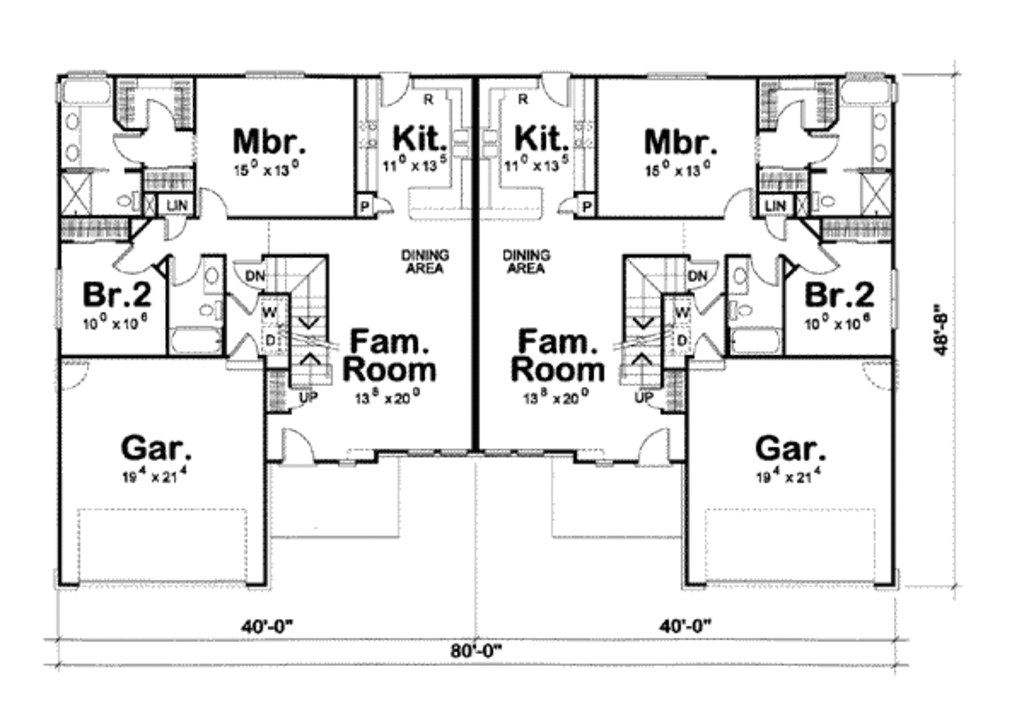door: (110, 239, 156, 284), (795, 240, 848, 279), (280, 423, 320, 471), (633, 427, 674, 471), (223, 328, 261, 373), (141, 98, 187, 134), (803, 129, 846, 166), (860, 357, 901, 395), (113, 128, 148, 172), (190, 186, 233, 221), (221, 285, 262, 320), (748, 254, 788, 287), (55, 359, 95, 392), (377, 70, 413, 106), (635, 380, 673, 414), (539, 68, 573, 106), (231, 253, 264, 291), (696, 331, 725, 373), (723, 186, 760, 218), (167, 250, 200, 285), (282, 378, 313, 412), (162, 206, 189, 244), (755, 212, 789, 242), (781, 101, 808, 132), (694, 292, 727, 317)
large_sink: (728, 289, 764, 323), (195, 292, 231, 323), (804, 184, 839, 213), (114, 187, 146, 212)
small_sink: (869, 103, 898, 166), (199, 256, 234, 297), (57, 106, 80, 167), (726, 253, 747, 291)
stairs: (619, 242, 691, 398), (264, 259, 345, 393)
tub: (837, 71, 892, 107), (58, 78, 114, 106), (166, 324, 221, 352), (728, 325, 784, 351)
twin_sink: (435, 113, 470, 159), (473, 120, 501, 162)
window: (479, 442, 546, 459), (406, 446, 469, 461), (590, 451, 616, 474), (337, 454, 367, 472)
